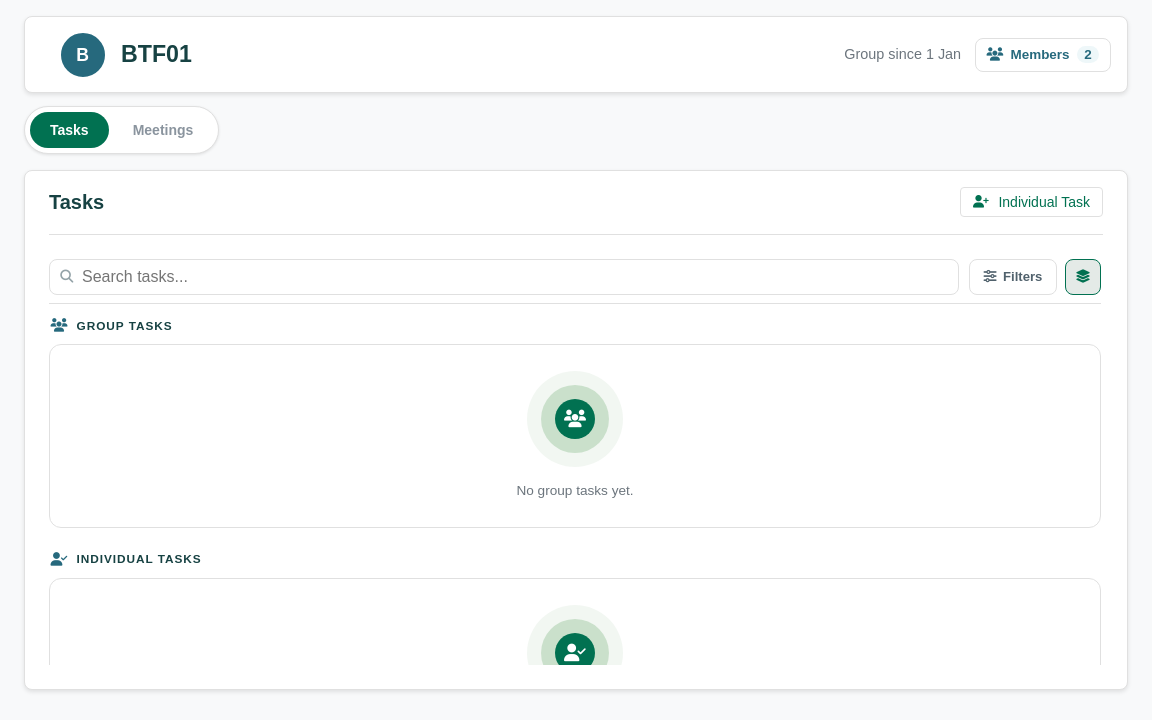
Test case: GroupDetailPage mutual interests in members modal › renders "No mutual areas of interest identified yet." when members do not share interests
# Open members modal
What coordinates should you click on to do the following:
click the button with class "group-members-btn"
I would click on:
 (1043, 55)
Its box is 975,38 -> 1111,72.
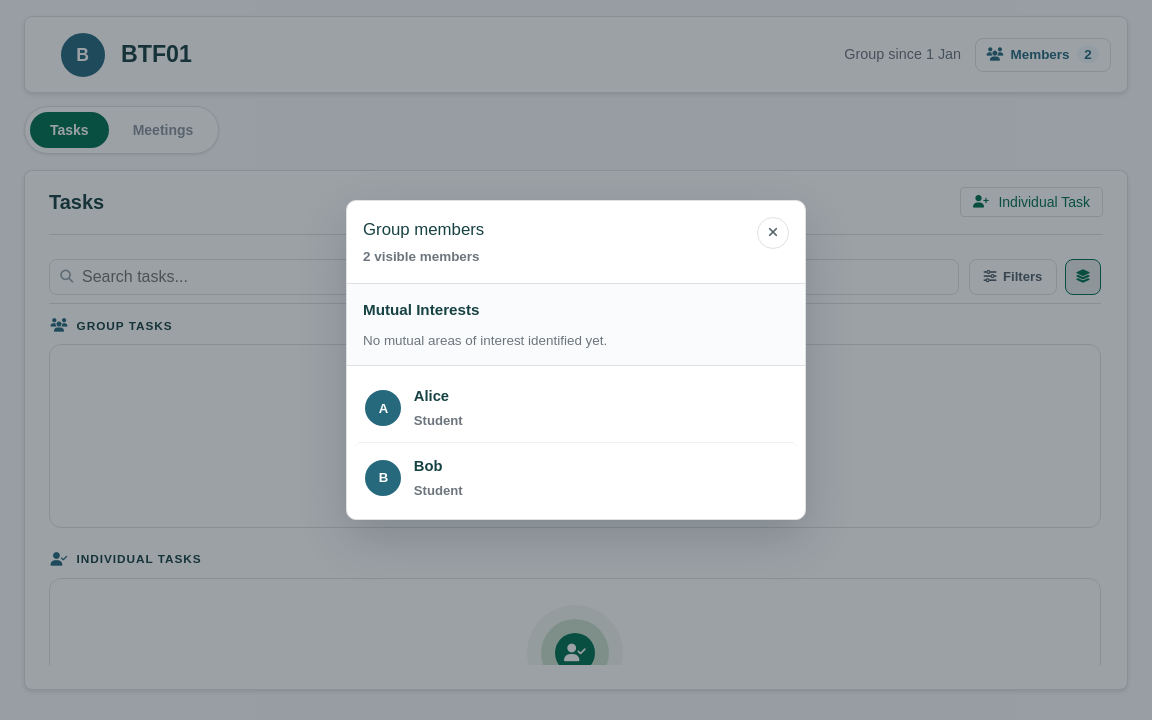
Result: the element with class "group-members-dialog-interests" is shown at 347,284 -> 805,366
Result: the element with class "group-members-dialog-interests" shows "Mutual Interests" at 363,301 -> 480,318
Result: the element with class "group-members-dialog-interests" shows "No mutual areas of interest identified yet." at 363,333 -> 607,348
